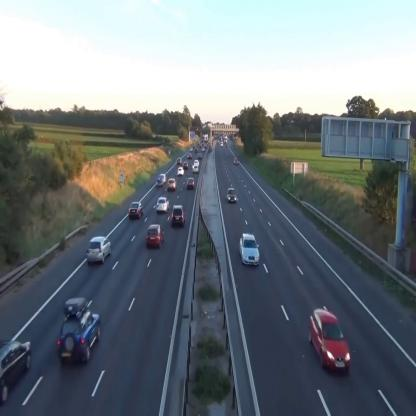car: (309, 308, 350, 372), (56, 311, 101, 367), (1, 339, 32, 404), (86, 237, 112, 264), (239, 234, 260, 266), (146, 224, 165, 249), (171, 204, 186, 226), (129, 202, 143, 220), (156, 197, 170, 213), (227, 187, 236, 204), (167, 178, 177, 190), (158, 173, 166, 183), (187, 177, 194, 188), (177, 167, 185, 175), (192, 165, 198, 172), (194, 159, 199, 166), (183, 161, 188, 168), (234, 158, 238, 165), (177, 157, 181, 163)
